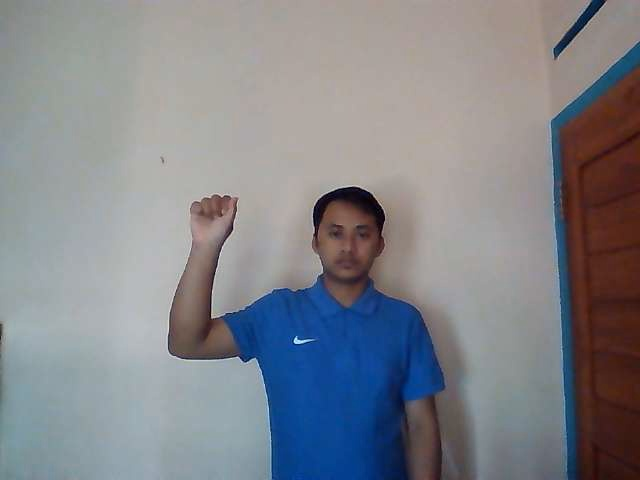A: (187, 193, 238, 244)
